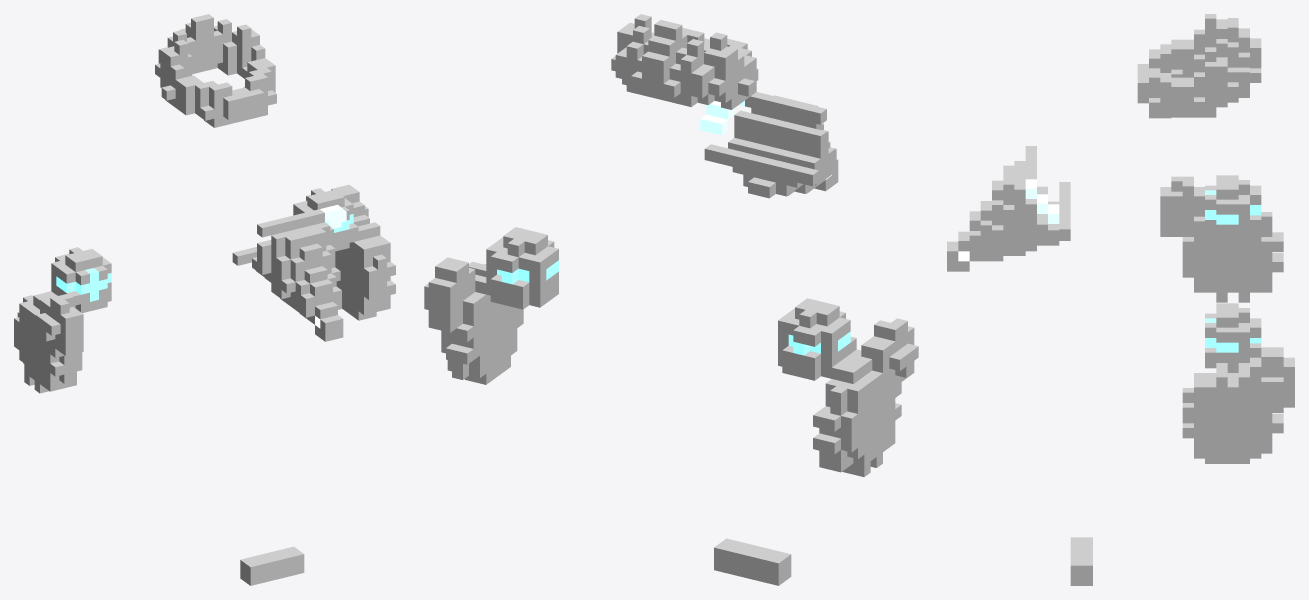
The model's file is IceDrill_B_T5_Upgrades.fbx.
3 views of the same model, side by side, from view 1: azimuth 30°, elevation 25°; view 2: azimuth 150°, elevation 25°; view 3: azimuth 270°, elevation 25° (orthographic). The views are drawn at different scales.
Parts seen in each view (by area): view 1: IceDrillT5U5Gold, IceDrillT5U3Brass, IceDrillT5U1Diamond, IceDrillT5U3Copper, IceDrillT5U1Gold, IceDrillT5U2Gold, IceDrillT5U2Gunmetal, IceDrillT5U1CrystalCyan, IceDrillT5U5PineLight, IceDrillT5U2AuroraGreenGlow, IceDrillT5U3Gold; view 2: IceDrillT5U3Brass, IceDrillT5U5Gold, IceDrillT5U1Diamond, IceDrillT5U3Copper, IceDrillT5U2Gold, IceDrillT5U2Gunmetal, IceDrillT5U2AuroraGreenGlow, IceDrillT5U3Gold, IceDrillT5U1CrystalCyanGlow; view 3: IceDrillT5U3Brass, IceDrillT5U5Gold, IceDrillT5U3Copper, IceDrillT5U1Diamond, IceDrillT5U2Gold, IceDrillT5U2Gunmetal, IceDrillT5U1Gold, IceDrillT5U1CrystalCyan, IceDrillT5U3Gold, IceDrillT5U2AuroraGreenGlow, IceDrillT5U1CrystalCyanGlow, IceDrillT5U5PineLight.
Boxes of the visible parts, x1=… form: IceDrillT5U5Gold: x1=155, y1=14, x2=298, y2=581; IceDrillT5U3Brass: x1=14, y1=214, x2=395, y2=393; IceDrillT5U1Diamond: x1=232, y1=209, x2=337, y2=324; IceDrillT5U3Copper: x1=36, y1=184, x2=364, y2=355; IceDrillT5U1Gold: x1=266, y1=243, x2=341, y2=320; IceDrillT5U2Gold: x1=51, y1=188, x2=358, y2=313; IceDrillT5U2Gunmetal: x1=51, y1=193, x2=353, y2=285; IceDrillT5U1CrystalCyan: x1=271, y1=251, x2=343, y2=341; IceDrillT5U5PineLight: x1=245, y1=550, x2=304, y2=585; IceDrillT5U2AuroraGreenGlow: x1=56, y1=214, x2=353, y2=301; IceDrillT5U3Gold: x1=24, y1=206, x2=368, y2=357; IceDrillT5U3Brass: x1=441, y1=261, x2=901, y2=476; IceDrillT5U5Gold: x1=611, y1=14, x2=784, y2=585; IceDrillT5U1Diamond: x1=704, y1=92, x2=828, y2=198; IceDrillT5U3Copper: x1=428, y1=257, x2=918, y2=390; IceDrillT5U2Gold: x1=486, y1=229, x2=856, y2=380; IceDrillT5U2Gunmetal: x1=486, y1=227, x2=850, y2=356; IceDrillT5U2AuroraGreenGlow: x1=497, y1=260, x2=850, y2=355; IceDrillT5U3Gold: x1=424, y1=283, x2=876, y2=442; IceDrillT5U1CrystalCyanGlow: x1=700, y1=100, x2=744, y2=135; IceDrillT5U3Brass: x1=1182, y1=212, x2=1283, y2=463; IceDrillT5U5Gold: x1=1081, y1=14, x2=1261, y2=585; IceDrillT5U3Copper: x1=1160, y1=176, x2=1294, y2=407; IceDrillT5U1Diamond: x1=958, y1=146, x2=1070, y2=261; IceDrillT5U2Gold: x1=1205, y1=175, x2=1261, y2=372; IceDrillT5U2Gunmetal: x1=1205, y1=175, x2=1261, y2=352; IceDrillT5U1Gold: x1=969, y1=180, x2=1047, y2=261; IceDrillT5U1CrystalCyan: x1=947, y1=200, x2=1036, y2=271; IceDrillT5U3Gold: x1=1216, y1=245, x2=1283, y2=402; IceDrillT5U2AuroraGreenGlow: x1=1205, y1=190, x2=1261, y2=352; IceDrillT5U1CrystalCyanGlow: x1=1025, y1=179, x2=1059, y2=223; IceDrillT5U5PineLight: x1=1070, y1=537, x2=1081, y2=585.
Size of the model in its own units: 500 by 675 by 387.
